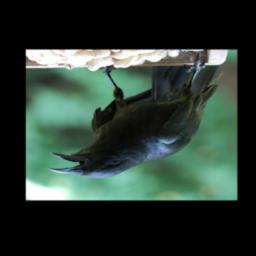Crow: (48, 52, 223, 179)
